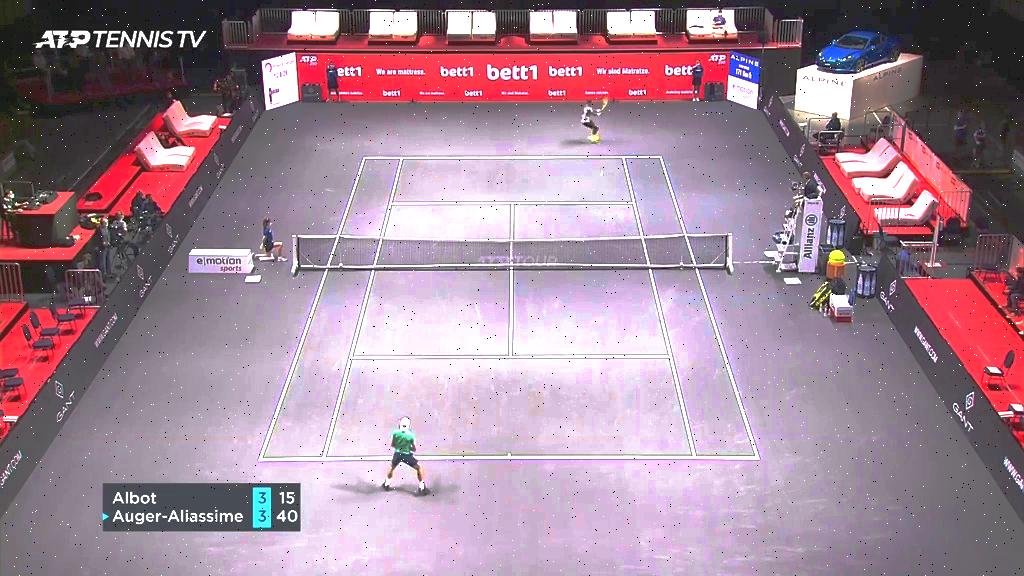tennis-court: (258, 156, 761, 461)
